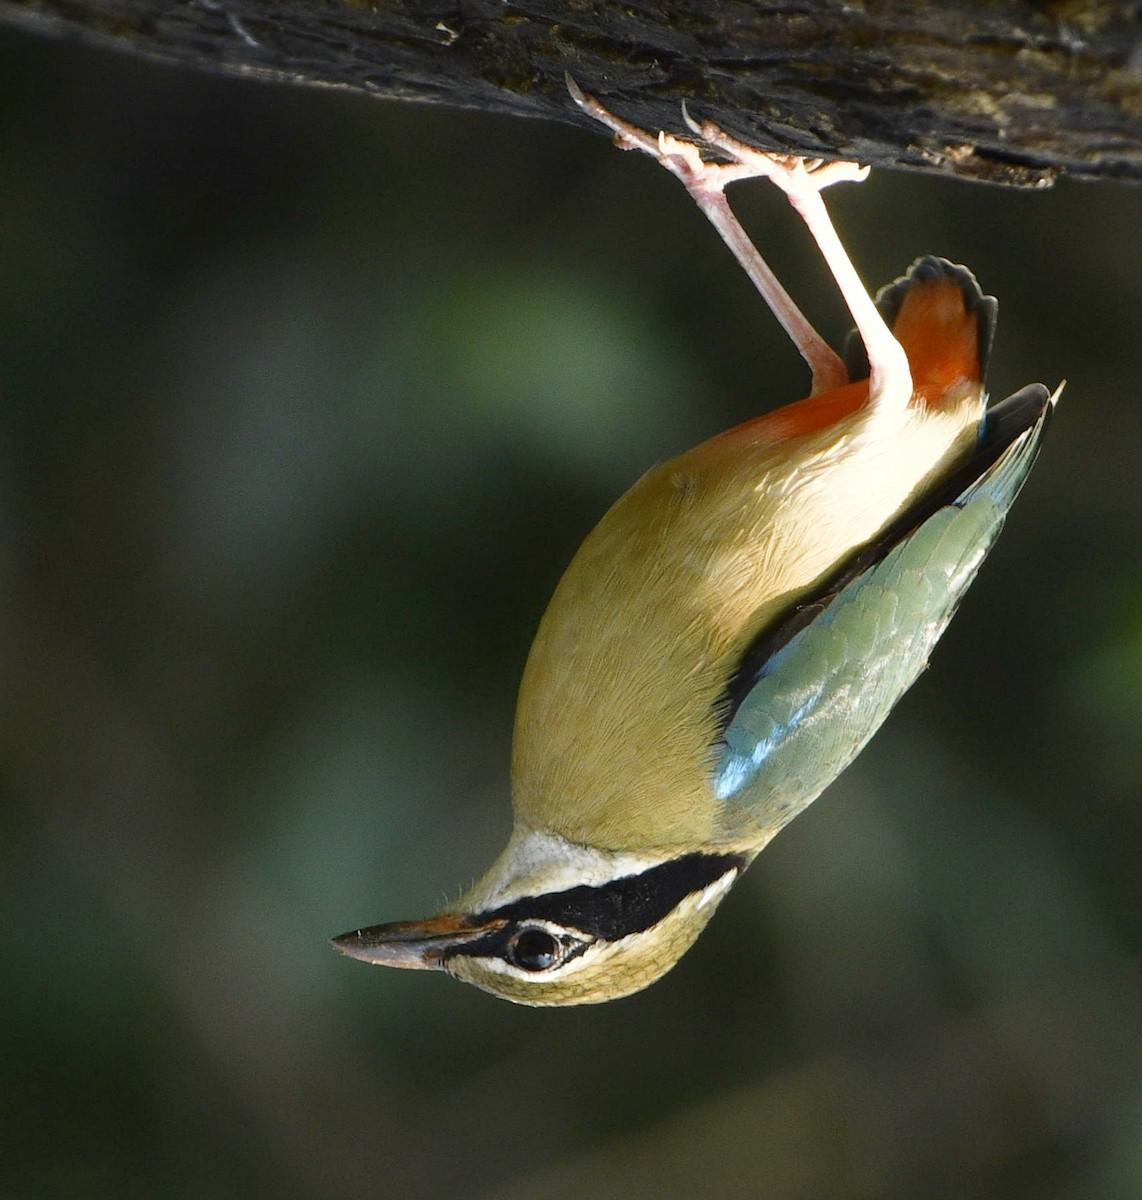pitta: (296, 97, 1083, 1054)
